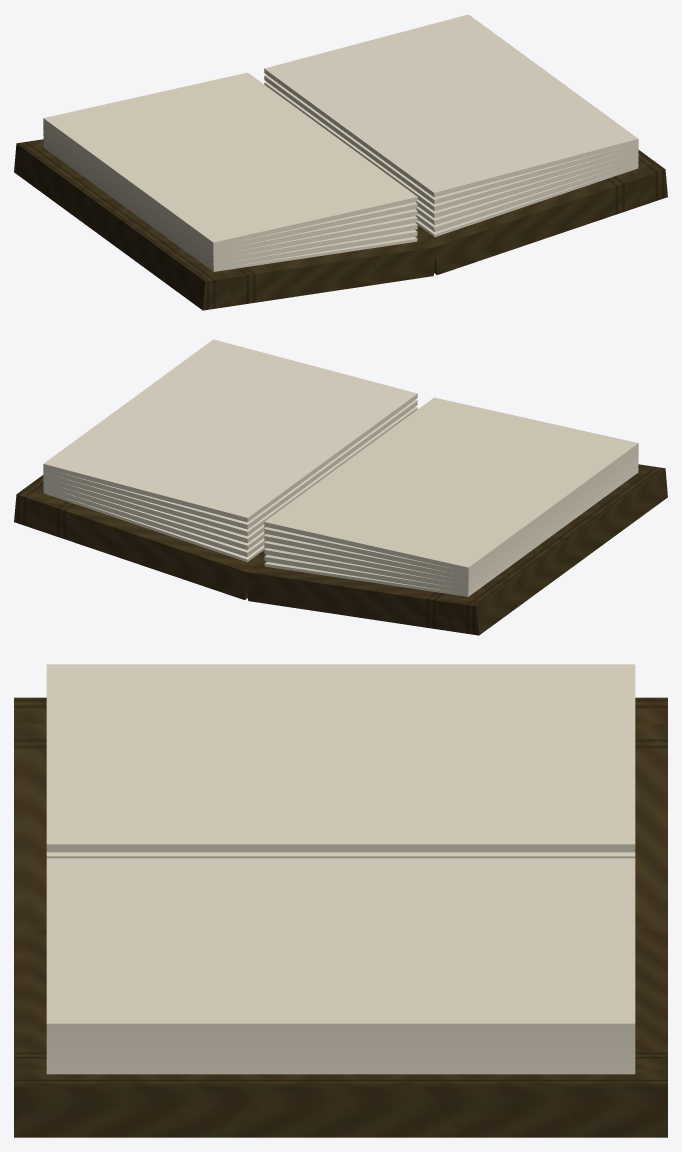
Rendered from open.glb.
The picture shows the model from 3 angles, top to bottom: view 1: azimuth 30°, elevation 25°; view 2: azimuth 150°, elevation 25°; view 3: azimuth 270°, elevation 25°; orthographic projection. The views are drawn at different scales.
Visible parts, largest first — view 1: open; view 2: open; view 3: open.
Part boxes in pixels (box(x1,y1,x2,y2)): open: box(14, 14, 667, 310); open: box(14, 339, 667, 635); open: box(14, 664, 667, 1137).
Size of the model in its own units: 0.3411 by 0.0547 by 0.24.
Materials: 2 (1 with a texture image).
